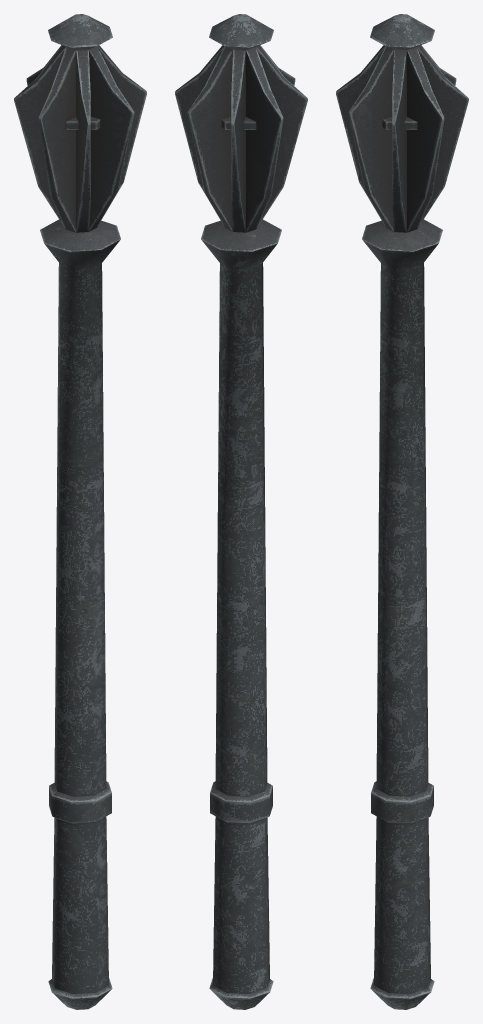
The model's file is mace.fbx.
3 views of the same model, side by side, from view 1: azimuth 30°, elevation 25°; view 2: azimuth 150°, elevation 25°; view 3: azimuth 330°, elevation 25° (orthographic).
Parts seen in each view (by area): view 1: mace; view 2: mace; view 3: mace.
Boxes of the visible parts, bbox=[...] form: mace: bbox=[14, 14, 146, 1009]; mace: bbox=[175, 14, 307, 1009]; mace: bbox=[336, 14, 468, 1009].
Size of the model in its own units: 15.76 by 138 by 15.76.
